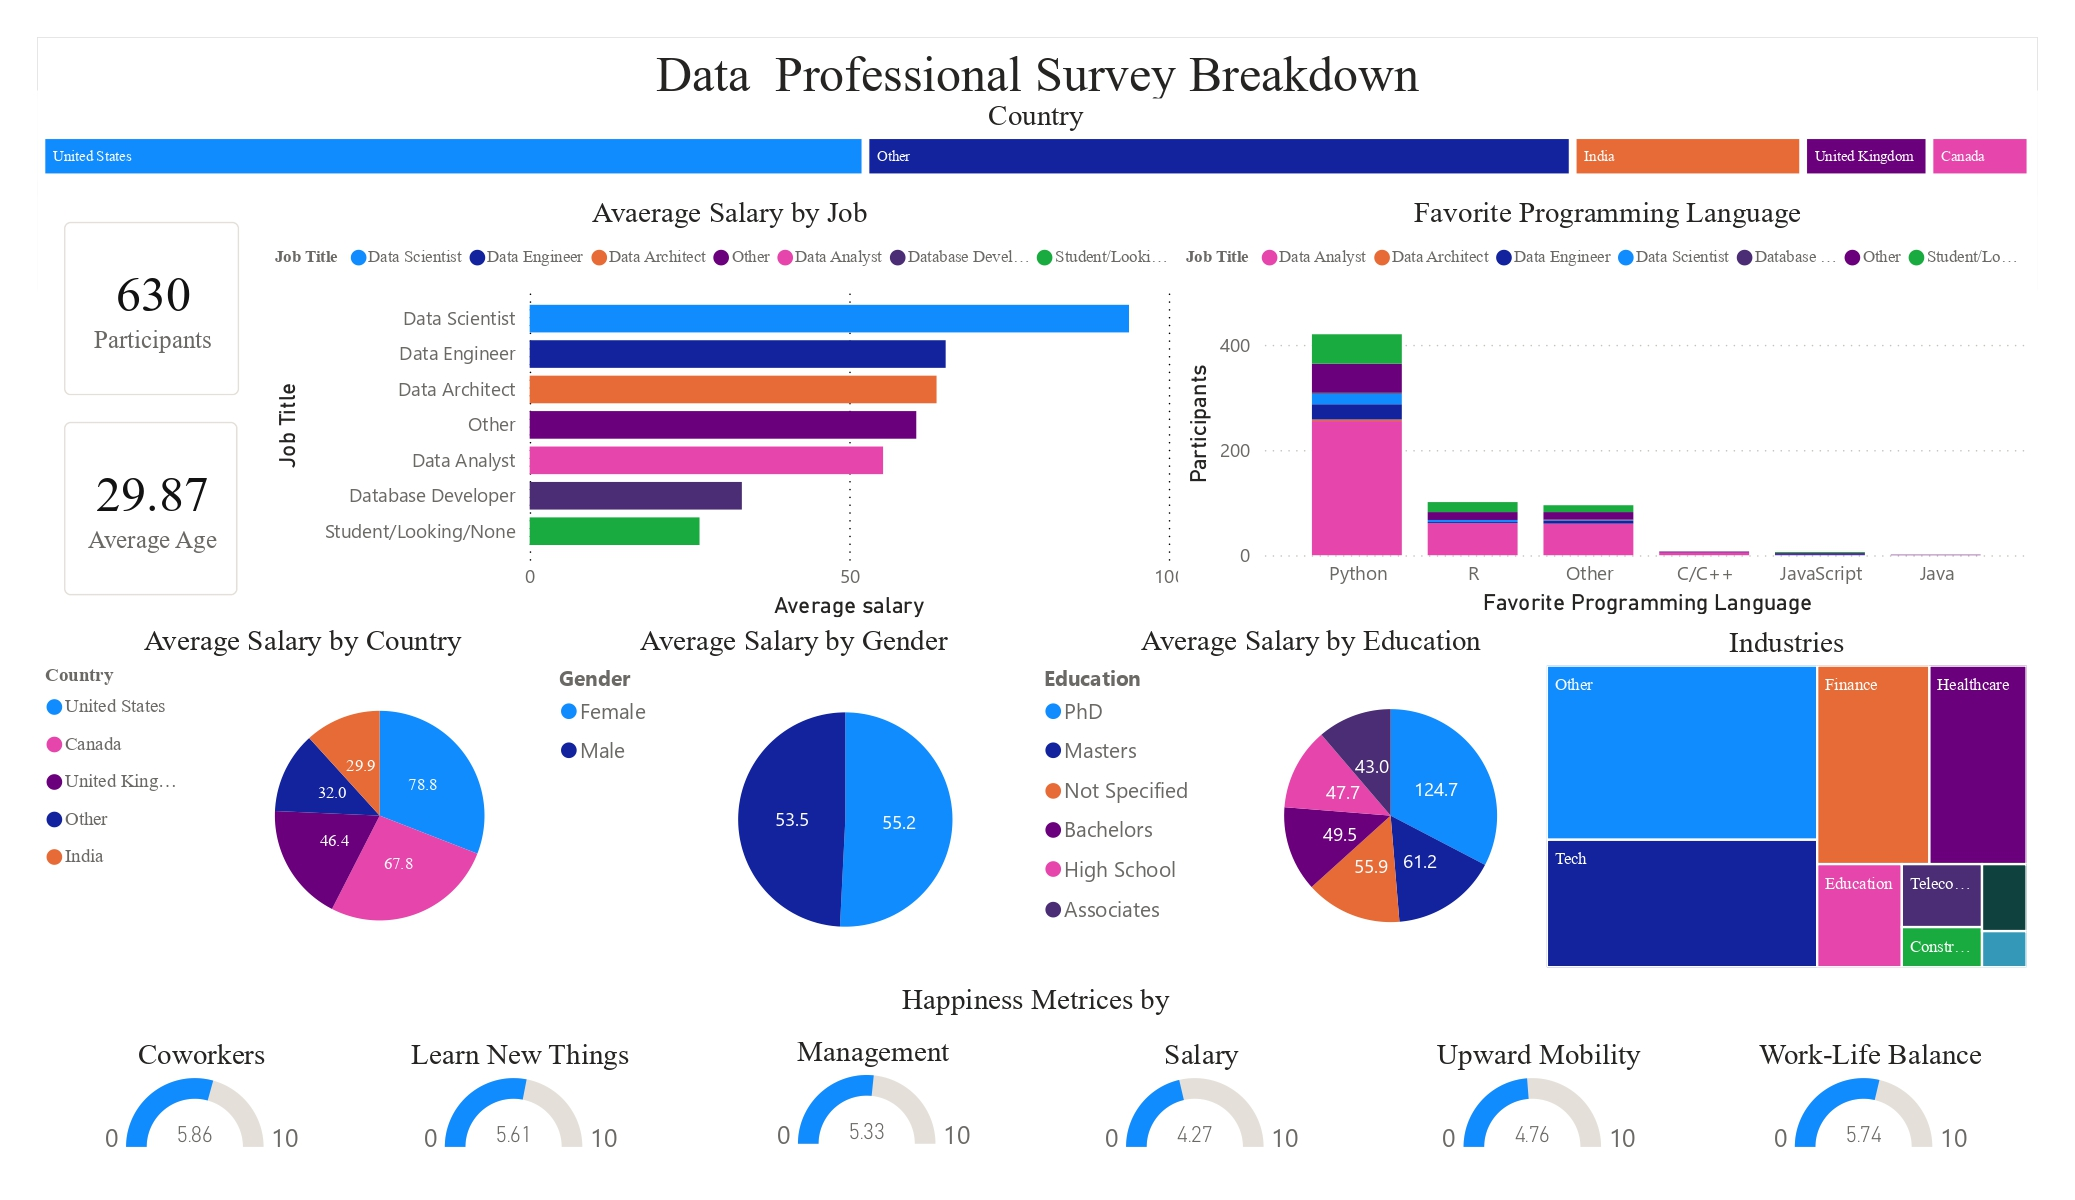

The dashboard page shown, as its layout file describes it:
{"tool":"powerbi","page":{"name":"Page 1","canvas":[1280,720],"ordinal":0},"visuals":[{"type":"textbox","box":[0,0,1280,65.6],"z":0},{"type":"gauge","title":"Coworkers","fields":{"Y":["Avg(Data Professional Survey.Q6 - How Happy are you in your Current Position with the following? (coworkers))"],"MinValue":["Min(Data Professional Survey.Q6 - How Happy are you in your Current Position with the following? (coworkers))1"],"MaxValue":["Max(Data Professional Survey.Q6 - How Happy are you in your Current Position with the following? (coworkers))2"]},"box":[0,640,210,80],"z":0,"group":"g1"},{"type":"cardVisual","fields":{"Data":["CountNonNull(Data Professional Survey.Unique ID)"]},"box":[0,101.1,146.7,145.6],"z":1000},{"type":"gauge","title":"Learn New Things","fields":{"Y":["Avg(Data Professional Survey.Q6 - How Happy are you in your Current Position with the following? (Learning New Things))"],"MinValue":["Min(Data Professional Survey.Q6 - How Happy are you in your Current Position with the following? (Learning New Things))1"],"MaxValue":["Max(Data Professional Survey.Q6 - How Happy are you in your Current Position with the following? (Learning New Things))2"]},"box":[204,640,210,80],"z":1000,"group":"g1"},{"type":"cardVisual","fields":{"Data":["Avg(Data Professional Survey.Q10 - Current Age)"]},"box":[0,228.9,145.6,145.6],"z":2000},{"type":"gauge","title":"Management","fields":{"MinValue":["Min(Data Professional Survey.Q6 - How Happy are you in your Current Position with the following? (Management))"],"MaxValue":["Max(Data Professional Survey.Q6 - How Happy are you in your Current Position with the following? (Management))1"],"Y":["Avg(Data Professional Survey.Q6 - How Happy are you in your Current Position with the following? (Management))"]},"box":[430,638,210,80],"z":2000,"group":"g1"},{"type":"barChart","title":"Avaerage Salary by Job","fields":{"Category":["Data Professional Survey.Q1 - Which Title Best Fits your Current Role?.1"],"Y":["Avg(Data Professional Survey.avg_salary)"],"Series":["Data Professional Survey.Q1 - Which Title Best Fits your Current Role?.1"]},"box":[146.7,101.1,592.2,274.4],"z":3000},{"type":"gauge","title":"Salary","fields":{"MinValue":["Min(Data Professional Survey.Q6 - How Happy are you in your Current Position with the following? (Salary))"],"MaxValue":["Max(Data Professional Survey.Q6 - How Happy are you in your Current Position with the following? (Salary))1"],"Y":["Avg(Data Professional Survey.Q6 - How Happy are you in your Current Position with the following? (Salary))"]},"box":[640,640,210,80],"z":3000,"group":"g1"},{"type":"columnChart","title":" Favorite Programming Language","fields":{"Category":["Data Professional Survey.Q5 - Favorite Programming Language.1"],"Y":["CountNonNull(Data Professional Survey.Unique ID)"],"Series":["Data Professional Survey.Job Title"]},"box":[730,101.1,550,273.3],"z":4000},{"type":"gauge","title":"Upward Mobility","fields":{"MinValue":["Min(Data Professional Survey.Q6 - How Happy are you in your Current Position with the following? (Upward Mobility))"],"MaxValue":["Max(Data Professional Survey.Q6 - How Happy are you in your Current Position with the following? (Upward Mobility))1"],"Y":["Avg(Data Professional Survey.Q6 - How Happy are you in your Current Position with the following? (Upward Mobility))"]},"box":[856,640,210,80],"z":4000,"group":"g1"},{"type":"treemap","title":"Country ","fields":{"Values":["CountNonNull(Data Professional Survey.Q11 - Which Country do you live in?.1)"],"Group":["Data Professional Survey.Q11 - Which Country do you live in?.1"]},"box":[0,38.9,1277.8,53.3],"z":5000},{"type":"gauge","title":"Work-Life Balance","fields":{"MinValue":["Min(Data Professional Survey.Q6 - How Happy are you in your Current Position with the following? (Work/Life Balance))"],"MaxValue":["Max(Data Professional Survey.Q6 - How Happy are you in your Current Position with the following? (Work/Life Balance))1"],"Y":["Avg(Data Professional Survey.Q6 - How Happy are you in your Current Position with the following? (Work/Life Balance))"]},"box":[1066,640,214,80],"z":5000,"group":"g1"},{"type":"group","id":"g1","title":"Group 1","box":[0,638,1280,82],"z":6000},{"type":"textbox","box":[0,600,1278,38],"z":7000},{"type":"pieChart","title":"Average Salary by Country","fields":{"Category":["Data Professional Survey.Q11 - Which Country do you live in?.1"],"Y":["Avg(Data Professional Survey.avg_salary)"]},"box":[0,375,333.8,225],"z":8000},{"type":"pieChart","title":"Average Salary by Gender","fields":{"Y":["Avg(Data Professional Survey.avg_salary)"],"Series":["Data Professional Survey.Q9 - Male/Female?"],"Category":["Data Professional Survey.Q9 - Male/Female?"]},"box":[333.8,375,305,225],"z":11000},{"type":"pieChart","title":"Average Salary by Education ","fields":{"Category":["Data Professional Survey.Q12 - Highest Level of Education"],"Y":["Avg(Data Professional Survey.avg_salary)"]},"box":[638.8,375,352.5,225],"z":11500},{"type":"treemap","title":"Industries","fields":{"Group":["Data Professional Survey.Q4 - What Industry do you work in?.1"],"Values":["CountNonNull(Data Professional Survey.Q4 - What Industry do you work in?.1)"]},"box":[961.2,376.2,316.2,223.8],"z":12000}]}

Visuals, with their boxes on the page's 1280x720 design canvas (x1, y1, x2, y2). These are canvas units, not pixel positions in the 2075x1200 screenshot, which may show the page scaled, cropped or inside an application window:
textbox: [0, 0, 1280, 66]
"Coworkers" gauge: [0, 640, 210, 720]
cardVisual - CountNonNull(Data Professional Survey.Unique ID): [0, 101, 147, 247]
"Learn New Things" gauge: [204, 640, 414, 720]
cardVisual - Avg(Data Professional Survey.Q10 - Current Age): [0, 229, 146, 374]
"Management" gauge: [430, 638, 640, 718]
"Avaerage Salary by Job" barChart: [147, 101, 739, 376]
"Salary" gauge: [640, 640, 850, 720]
" Favorite Programming Language" columnChart: [730, 101, 1280, 374]
"Upward Mobility" gauge: [856, 640, 1066, 720]
"Country " treemap: [0, 39, 1278, 92]
"Work-Life Balance" gauge: [1066, 640, 1280, 720]
"Group 1" group: [0, 638, 1280, 720]
textbox: [0, 600, 1278, 638]
"Average Salary by Country" pieChart: [0, 375, 334, 600]
"Average Salary by Gender" pieChart: [334, 375, 639, 600]
"Average Salary by Education " pieChart: [639, 375, 991, 600]
"Industries" treemap: [961, 376, 1277, 600]
